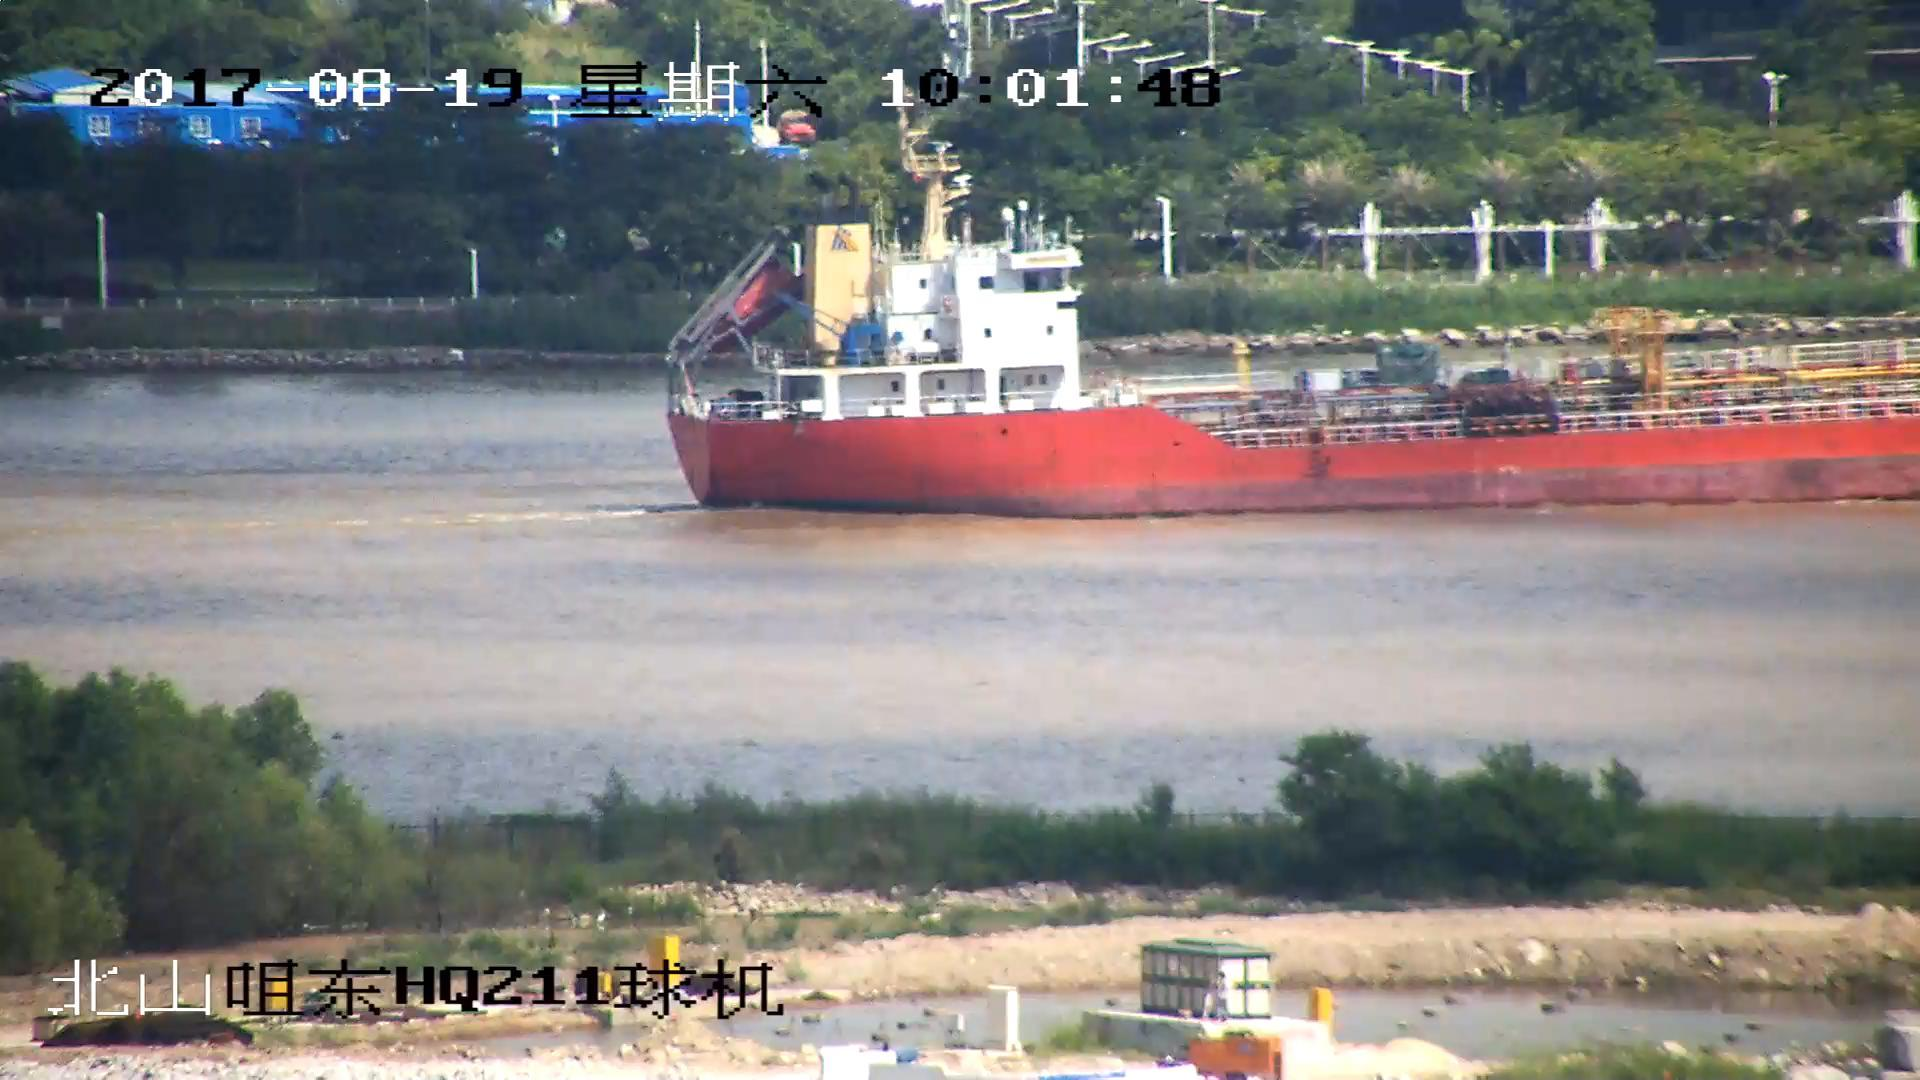Ship: (669, 131, 1920, 518)
